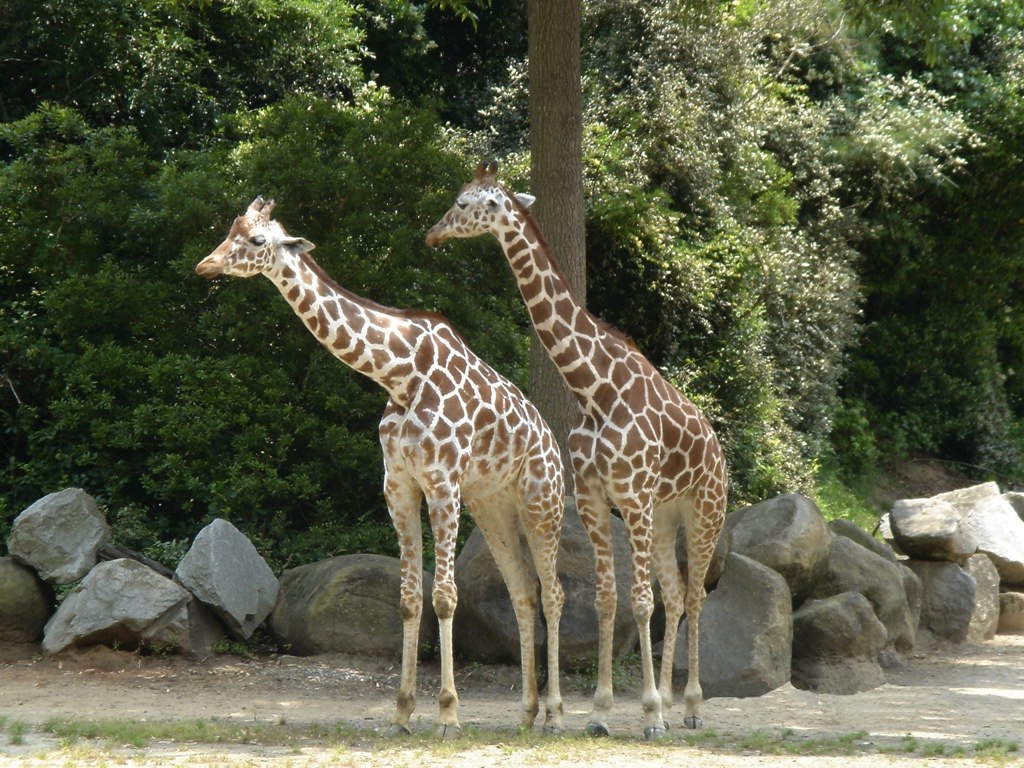giraffe: (162, 188, 591, 723), (419, 161, 776, 696)
